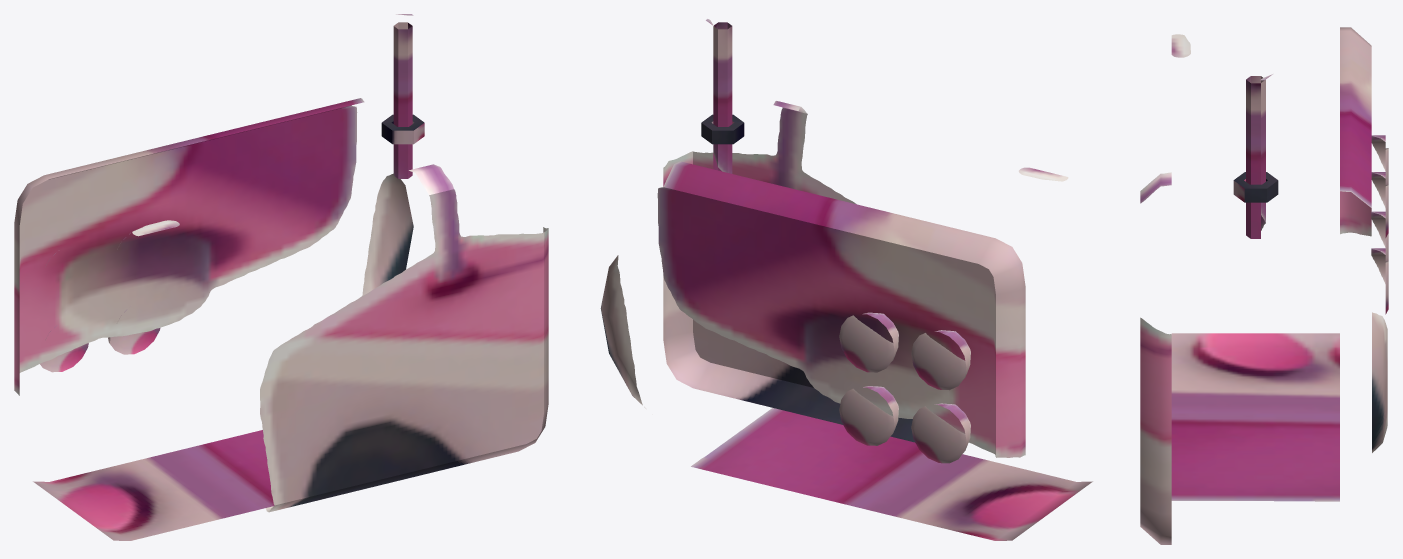
The model's file is radio.fbx.
The picture shows the model from 3 angles, left to right: view 1: azimuth 30°, elevation 25°; view 2: azimuth 150°, elevation 25°; view 3: azimuth 270°, elevation 25°; orthographic projection. The views are drawn at different scales.
Parts seen in each view (by area): view 1: radio; view 2: radio; view 3: radio.
Part boxes in pixels (left/top/right/bottom): radio: left=14, top=14, right=548, bottom=540; radio: left=600, top=19, right=1092, bottom=540; radio: left=1140, top=27, right=1388, bottom=544.
Bounding box in the file's own units: 1.02 × 0.9089 × 0.4736.
1 material, 1 textured.
